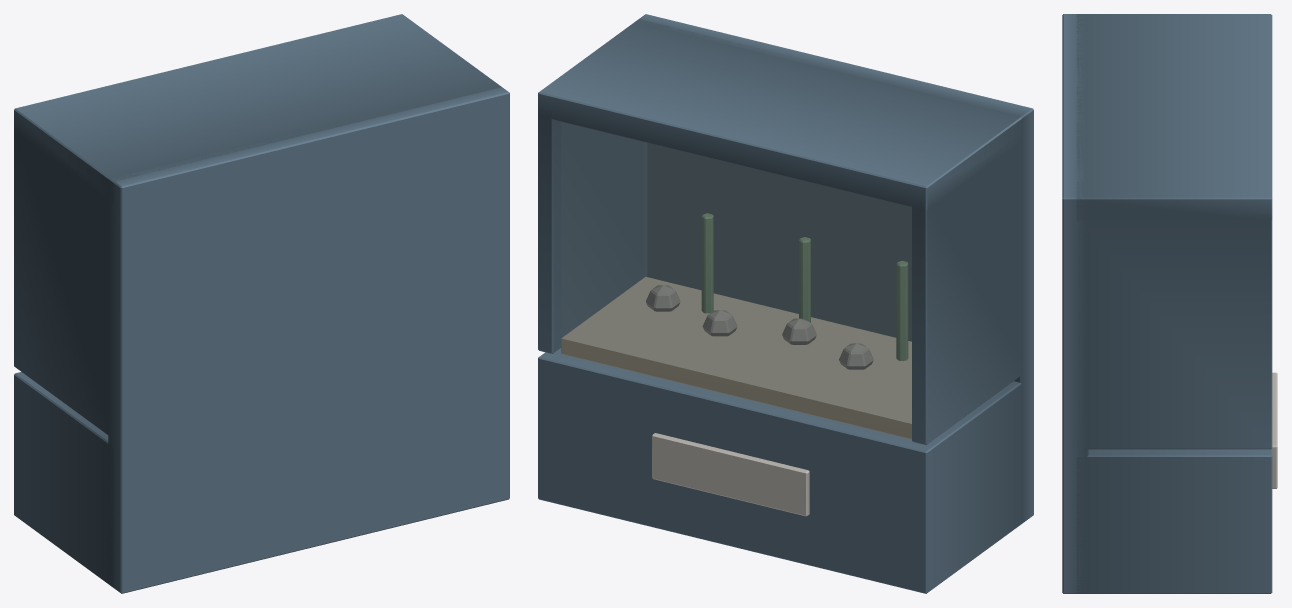
The model's file is museum_tank_wall.glb.
The picture shows the model from 3 angles, left to right: view 1: azimuth 30°, elevation 25°; view 2: azimuth 150°, elevation 25°; view 3: azimuth 270°, elevation 25°; orthographic projection. The views are drawn at different scales.
Bounding box in the file's own units: 2 × 2 × 0.985.
